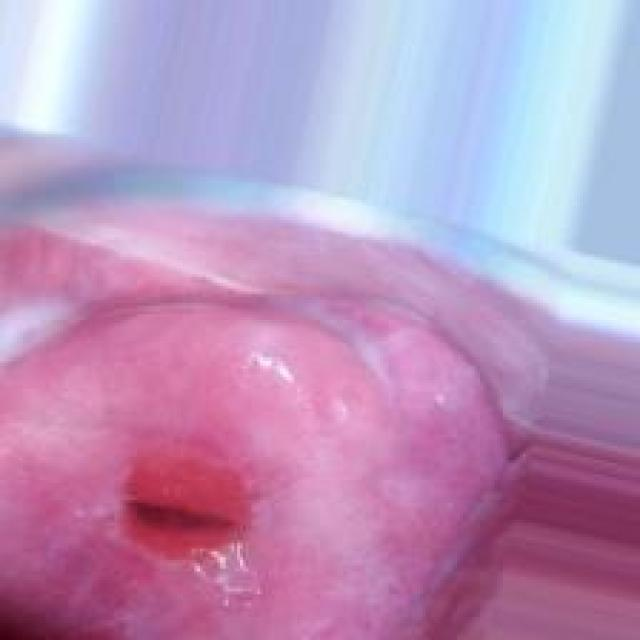type-1: (0, 231, 514, 639)
